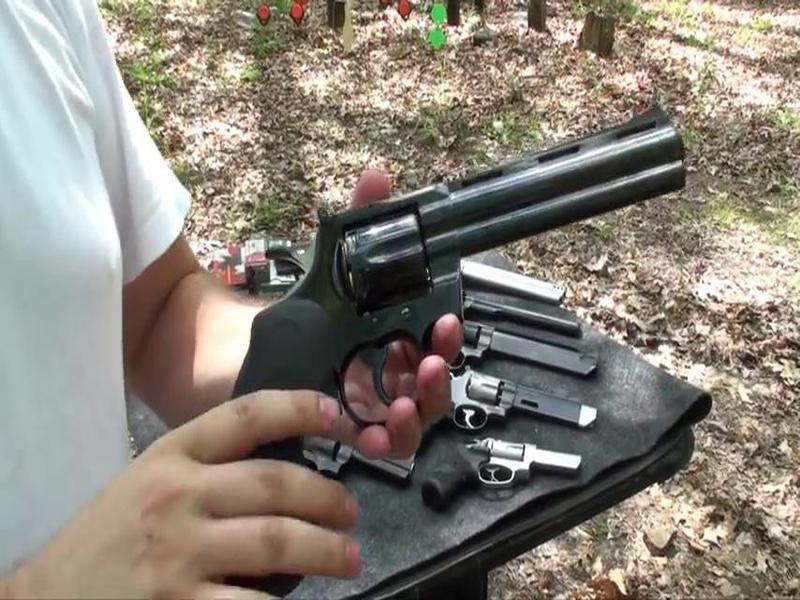Revolver: (232, 120, 713, 543)
